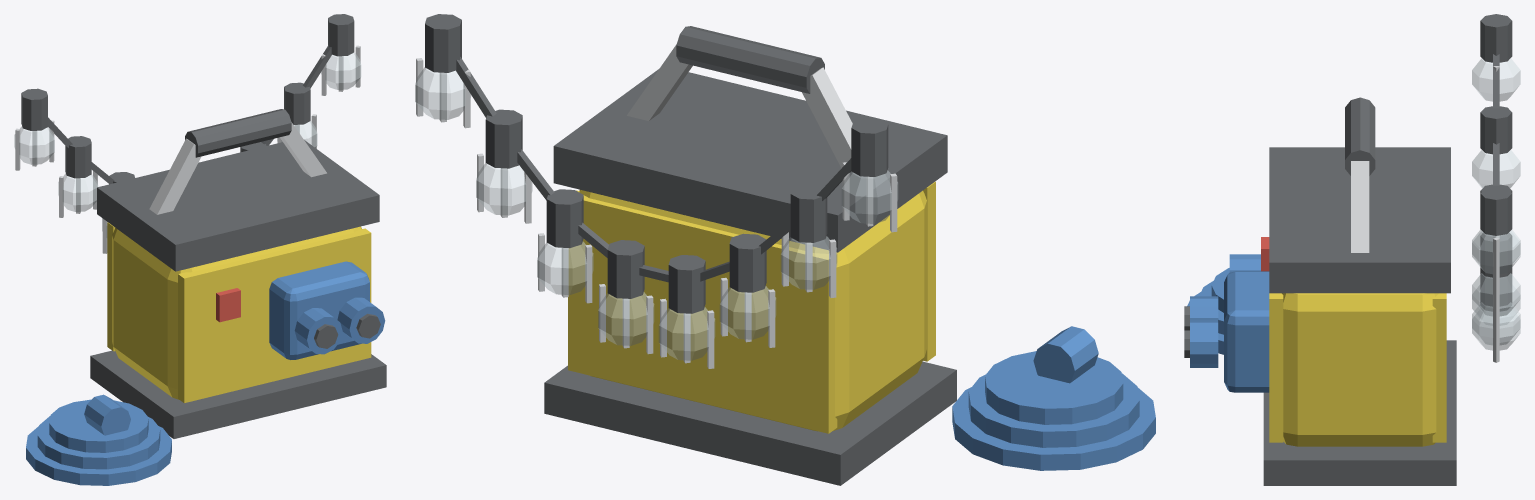
The model's file is tool-hire-depot-and-plant-yard-tool-hire-depot-and-pla-b208027a__35316.glb.
3 views of the same model, side by side, from view 1: azimuth 30°, elevation 25°; view 2: azimuth 150°, elevation 25°; view 3: azimuth 270°, elevation 25° (orthographic). The views are drawn at different scales.
Visible parts, largest first — view 1: tool-hire-depot-and-plant-yard-site-transformer-and-lights; view 2: tool-hire-depot-and-plant-yard-site-transformer-and-lights; view 3: tool-hire-depot-and-plant-yard-site-transformer-and-lights.
Boxes of the visible parts, <box> form: tool-hire-depot-and-plant-yard-site-transformer-and-lights: <box>14,14,386,485</box>; tool-hire-depot-and-plant-yard-site-transformer-and-lights: <box>415,14,1155,485</box>; tool-hire-depot-and-plant-yard-site-transformer-and-lights: <box>1184,14,1520,485</box>.
Size of the model in its own units: 0.996 by 0.63 by 0.5928.
